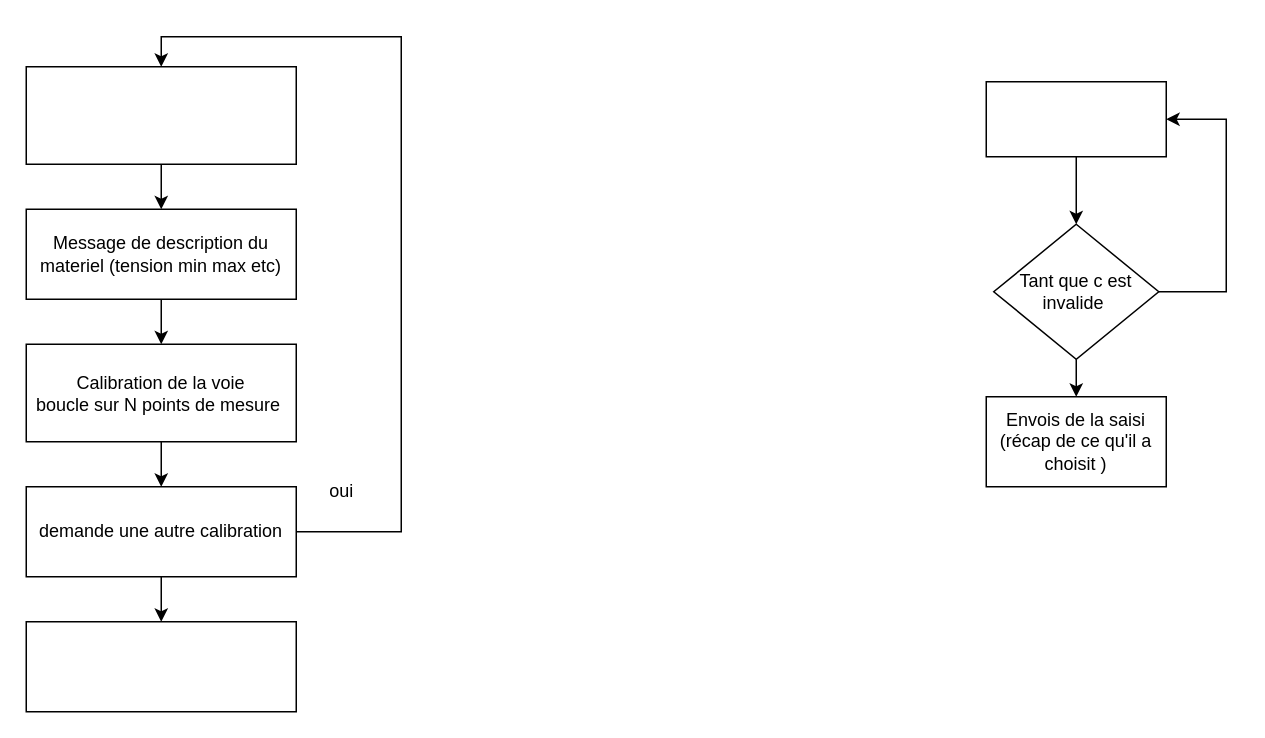
Image size: 1265x738. Some labels were removed from this diagram. Each missing label, with the box of its shape:
Choix du type I or O et de la voie: (25, 65, 296, 164)
Demande de réponse: (985, 80, 1166, 157)
Vérification de la calibration bouclage Entrées/Sorties: (25, 620, 296, 712)
